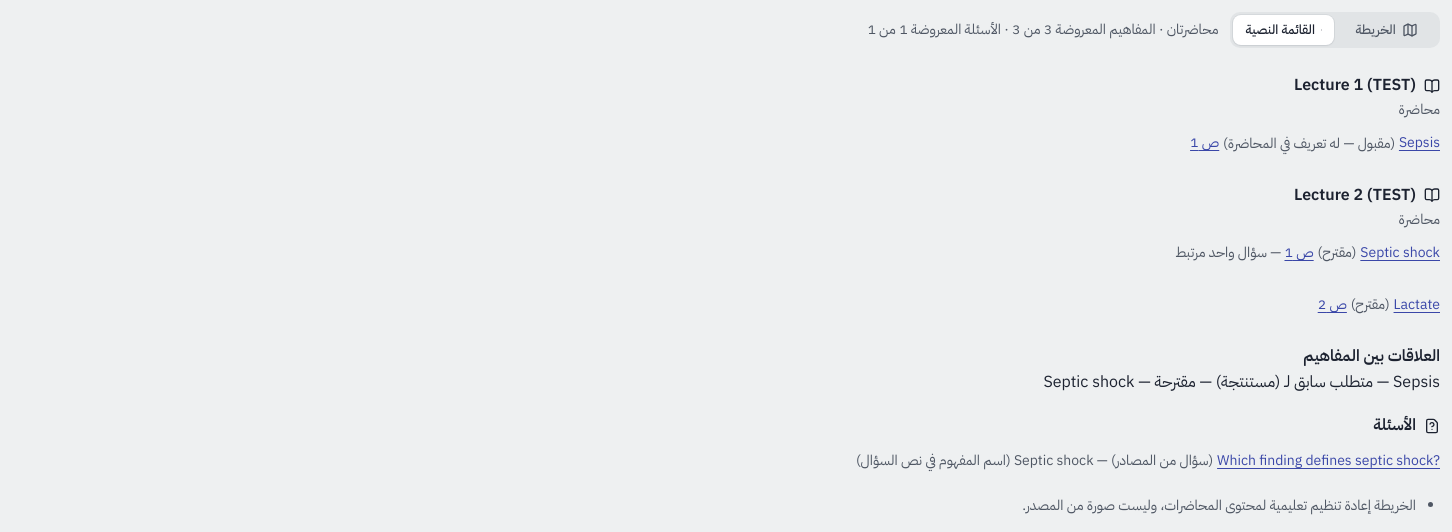
Test case: KnowledgeGraph accessibility › the text twin carries the same concepts, pages, questions and the inferred label
Expected: the heading "Lecture 1 (TEST)" is shown, [1294,73,1440,97]
Expected: the list item "Sepsis — متطلب سابق لـ (مستنتجة) — مقترحة — Septic shock" is shown, [1044,370,1440,394]
// the view switch is a labelled radio group
Click the radio button labelled "الخريطة" at [1387, 30], box [1336,15,1437,45]
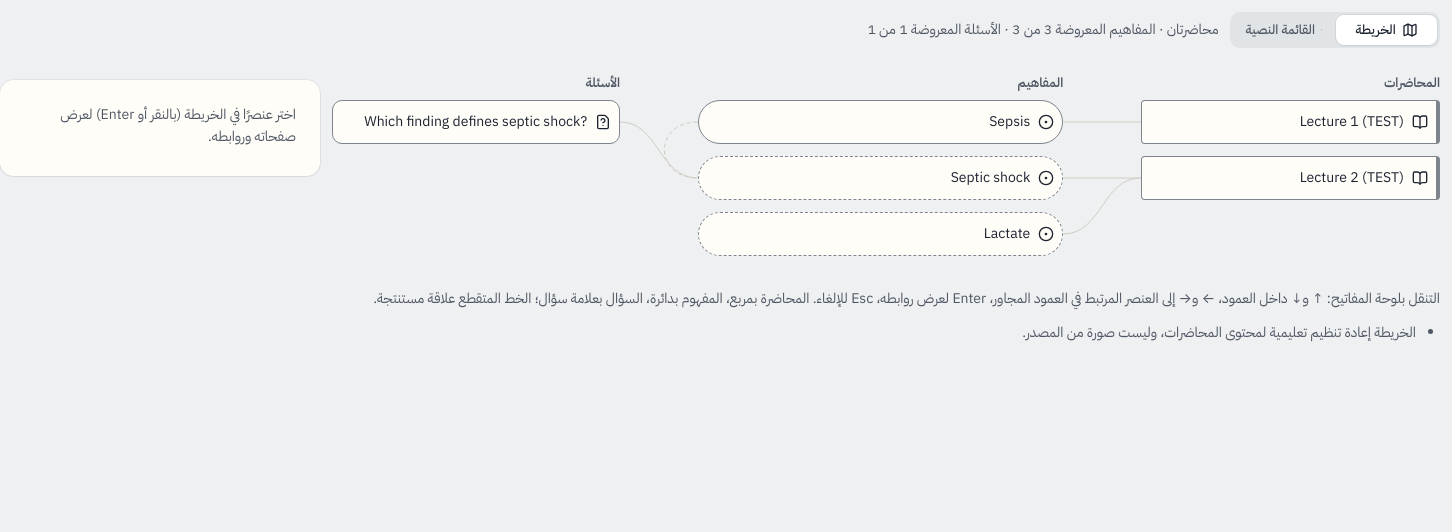
Now the element named "خريطة المعرفة" is shown, box [332,100,1440,268]
